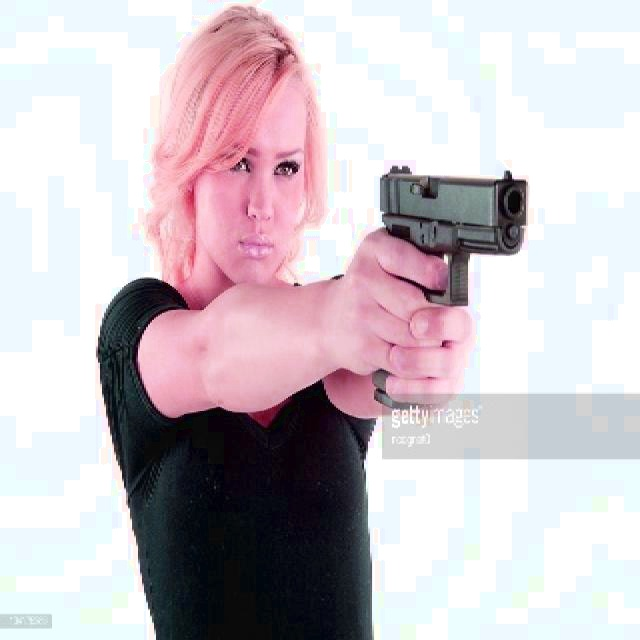gun: (366, 153, 534, 313)
